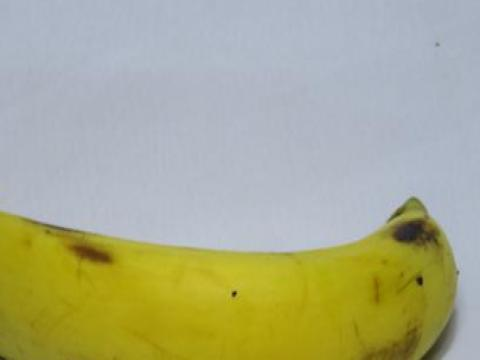freshripe: (0, 186, 466, 341)
